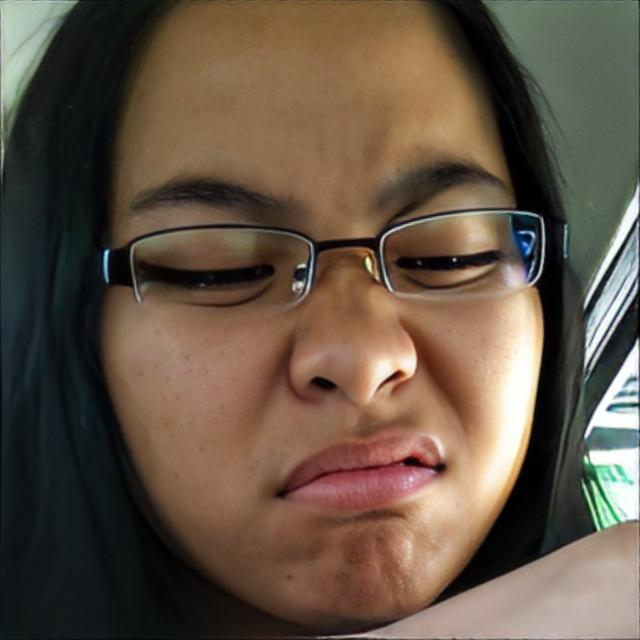disgust: (97, 0, 545, 631)
